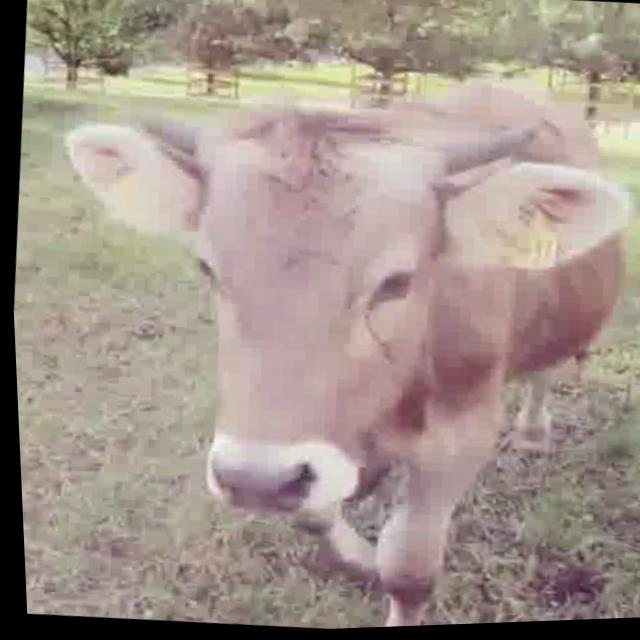cowFace: (26, 75, 640, 563)
